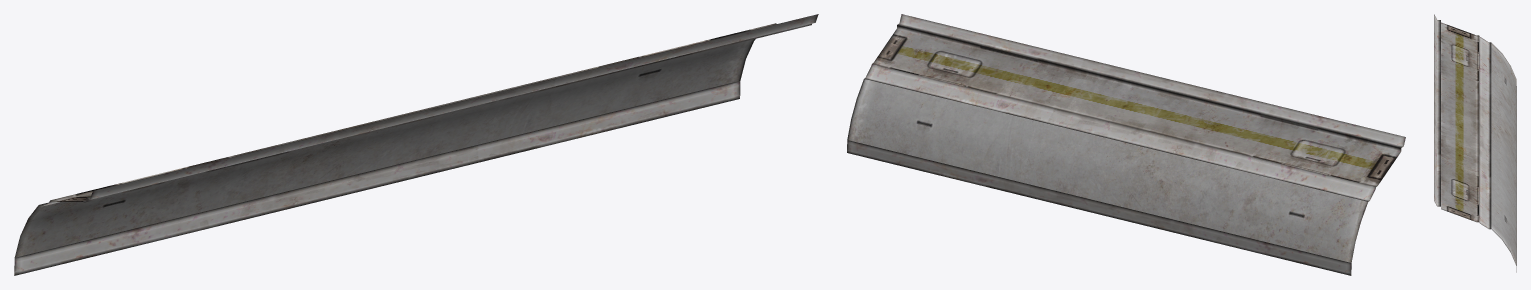
The model's file is theta_ceiling_welder.dae.
3 views of the same model, side by side, from view 1: azimuth 30°, elevation 25°; view 2: azimuth 150°, elevation 25°; view 3: azimuth 270°, elevation 25° (orthographic). The views are drawn at different scales.
Visible parts, largest first — view 1: theta_ceiling_connector; view 2: theta_ceiling_connector; view 3: theta_ceiling_connector.
Boxes of the visible parts, x1=… form: theta_ceiling_connector: x1=14, y1=14, x2=818, y2=275; theta_ceiling_connector: x1=847, y1=14, x2=1405, y2=275; theta_ceiling_connector: x1=1434, y1=14, x2=1516, y2=272.
Bounding box in the file's own units: 4 × 0.75 × 0.75.
